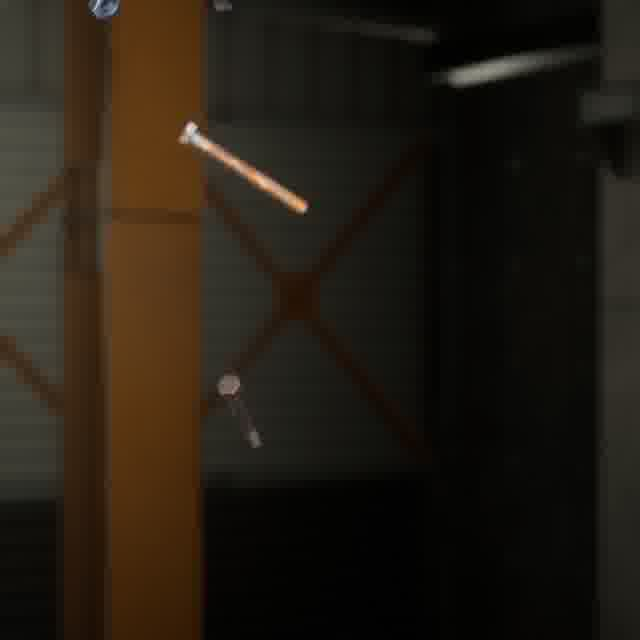bolt: (172, 116, 312, 219), (212, 369, 266, 452)
nut: (83, 0, 127, 25)
